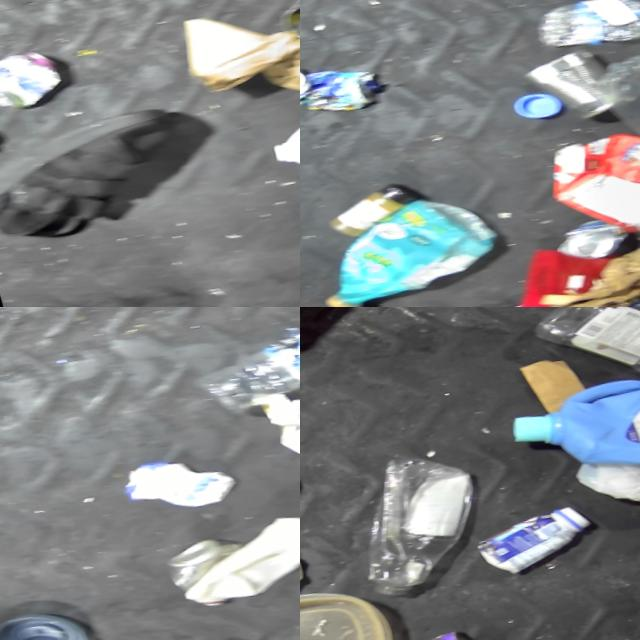can: (506, 37, 620, 127), (300, 44, 385, 126), (151, 531, 241, 594), (264, 153, 300, 285), (0, 43, 62, 117), (0, 603, 84, 640), (371, 618, 496, 640)
milk_jug: (153, 500, 300, 613), (253, 87, 300, 189)
non_white_jug: (300, 181, 505, 307), (493, 361, 640, 489)
plastic_bottle: (329, 439, 498, 601), (175, 309, 300, 424), (519, 307, 640, 392), (579, 34, 640, 173), (520, 0, 640, 56)
